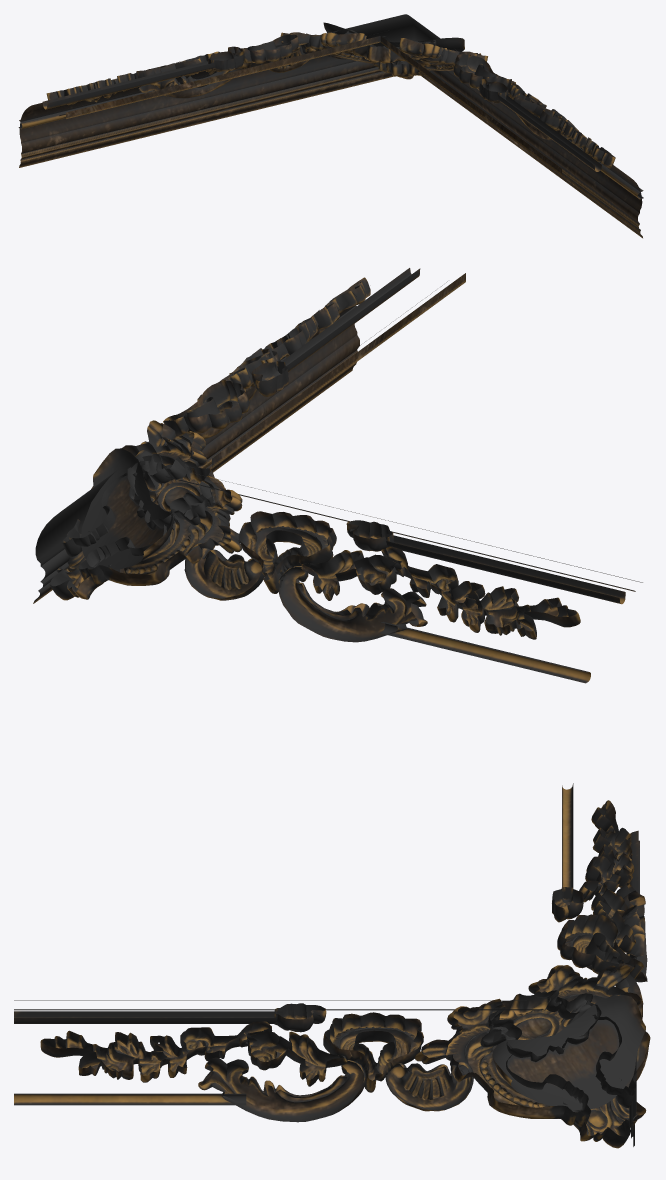
The model's file is SM_CurveCornerUpper90D.fbx.
3 renders of one model, top to bottom at view 1: azimuth 30°, elevation 25°; view 2: azimuth 150°, elevation 25°; view 3: azimuth 270°, elevation 25°, orthographic. The views are drawn at different scales.
Parts seen in each view (by area): view 1: SM_CurveCornerUpper90D_LOD0; view 2: SM_CurveCornerUpper90D_LOD0; view 3: SM_CurveCornerUpper90D_LOD0.
Boxes of the visible parts, <box> form: SM_CurveCornerUpper90D_LOD0: <box>18,14,643,238</box>; SM_CurveCornerUpper90D_LOD0: <box>33,268,642,683</box>; SM_CurveCornerUpper90D_LOD0: <box>14,783,650,1148</box>.
Bounding box in the file's own units: 330 × 330 × 70.03.
1 material, 1 textured.
